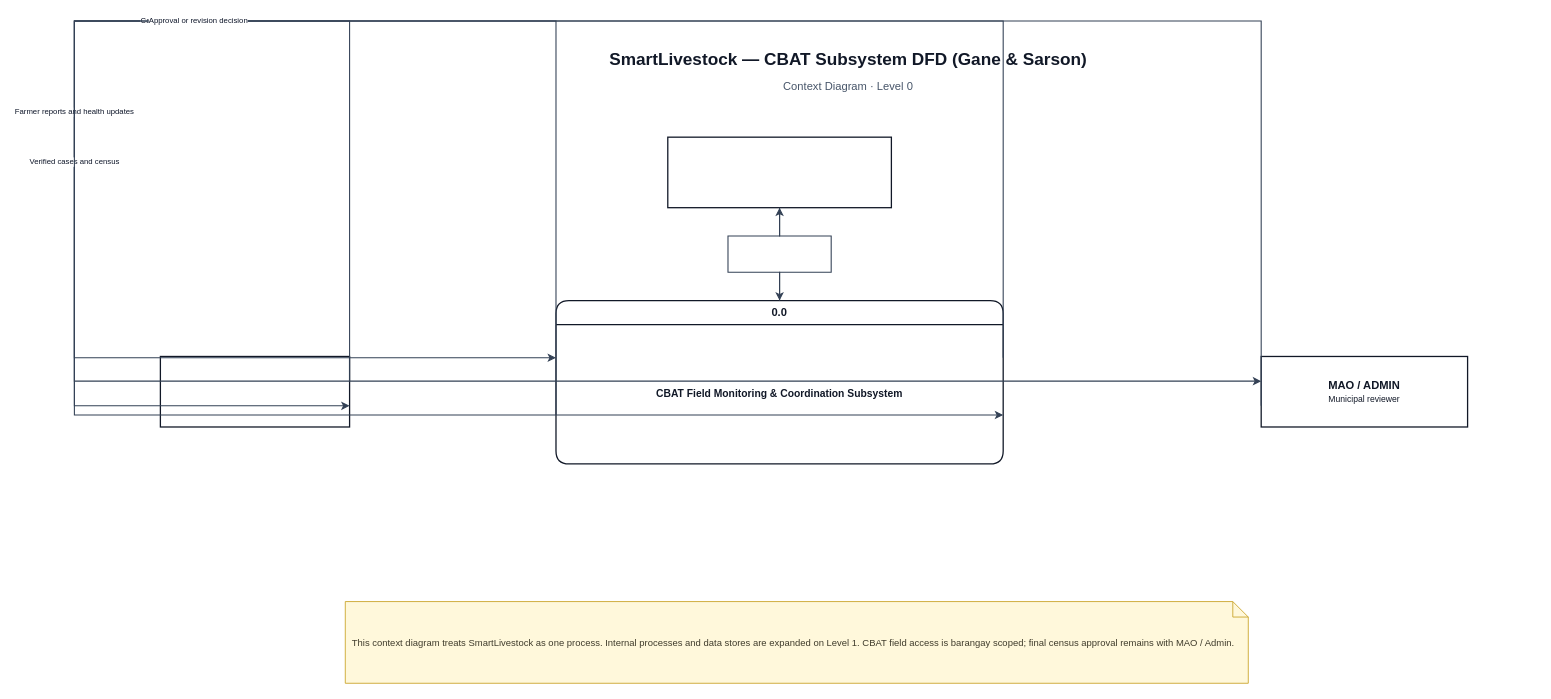
The diagram is 1551 pixels wide and 699 high, and some of its shapes have lost their labels. The centre of each missing label's shape, as x and y in pixels:
"CBAT Barangay field technician" belongs at pixel 779 172.
"FARMER Livestock raiser" belongs at pixel 254 391.
